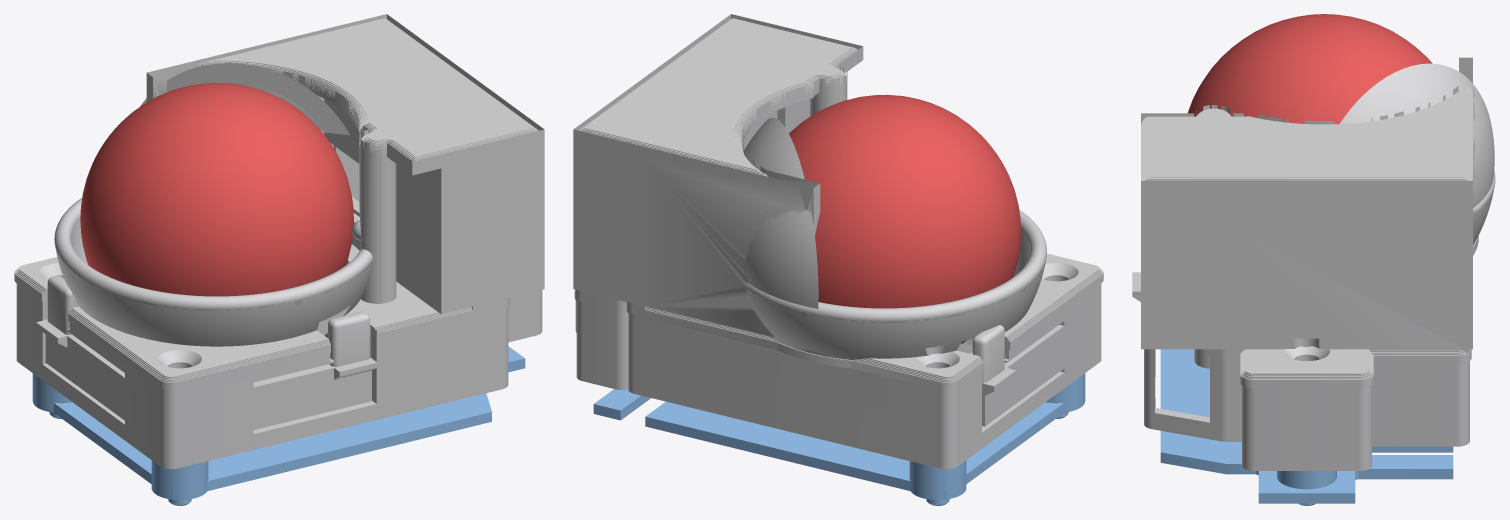
The model's file is cartridge.glb.
The picture shows the model from 3 angles, left to right: view 1: azimuth 30°, elevation 25°; view 2: azimuth 150°, elevation 25°; view 3: azimuth 270°, elevation 25°; orthographic projection. The views are drawn at different scales.
Parts seen in each view (by area): view 1: frame, ball, base; view 2: frame, ball, base; view 3: frame, ball, base.
Boxes of the visible parts, x1=… form: frame: x1=14, y1=14, x2=544, y2=469; ball: x1=80, y1=82, x2=353, y2=296; base: x1=32, y1=346, x2=525, y2=505; frame: x1=573, y1=14, x2=1103, y2=469; ball: x1=789, y1=94, x2=1021, y2=343; base: x1=593, y1=373, x2=1085, y2=505; frame: x1=1132, y1=57, x2=1495, y2=470; ball: x1=1188, y1=14, x2=1432, y2=124; base: x1=1160, y1=349, x2=1453, y2=505.
Bounding box in the file's own units: 0.0461 × 0.0334 × 0.0315.
